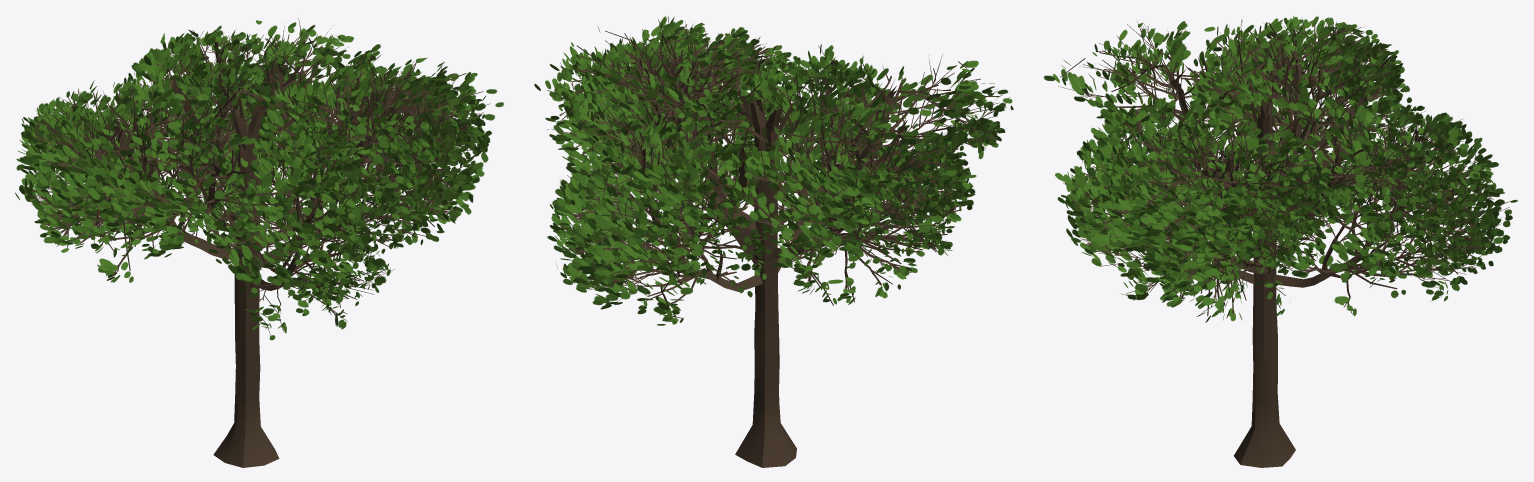
The picture shows the model from 3 angles, left to right: view 1: azimuth 30°, elevation 25°; view 2: azimuth 150°, elevation 25°; view 3: azimuth 270°, elevation 25°; orthographic projection.
Visible parts, largest first — view 1: oak 01.001_trunk_Mat.001_0.046; view 2: oak 01.001_trunk_Mat.001_0.046; view 3: oak 01.001_trunk_Mat.001_0.046.
Boxes of the visible parts, x1,y1,x2,y2 form: oak 01.001_trunk_Mat.001_0.046: (15, 17, 503, 467); oak 01.001_trunk_Mat.001_0.046: (534, 16, 1013, 467); oak 01.001_trunk_Mat.001_0.046: (1043, 16, 1517, 467).
Size of the model in its own units: 6.41 by 5.04 by 5.96.
Materials: 2 (1 with a texture image).
